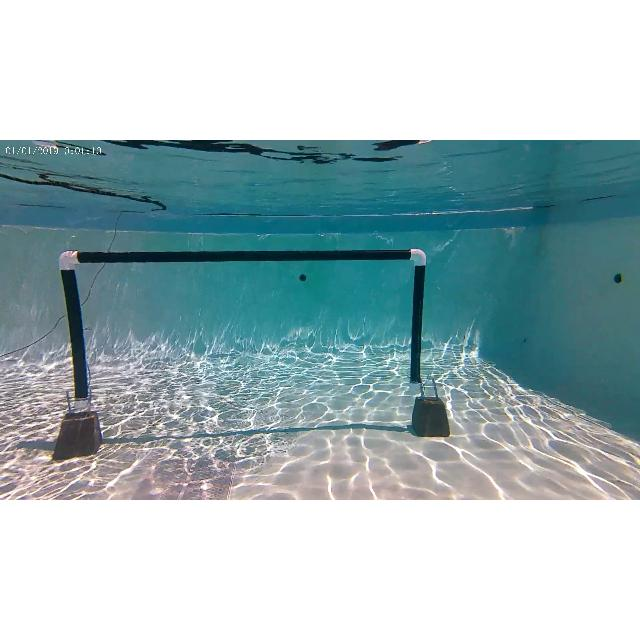prequal gate: (58, 248, 426, 410)
prequal gate leg l: (55, 250, 97, 448)
prequal gate leg r: (410, 252, 450, 436)
